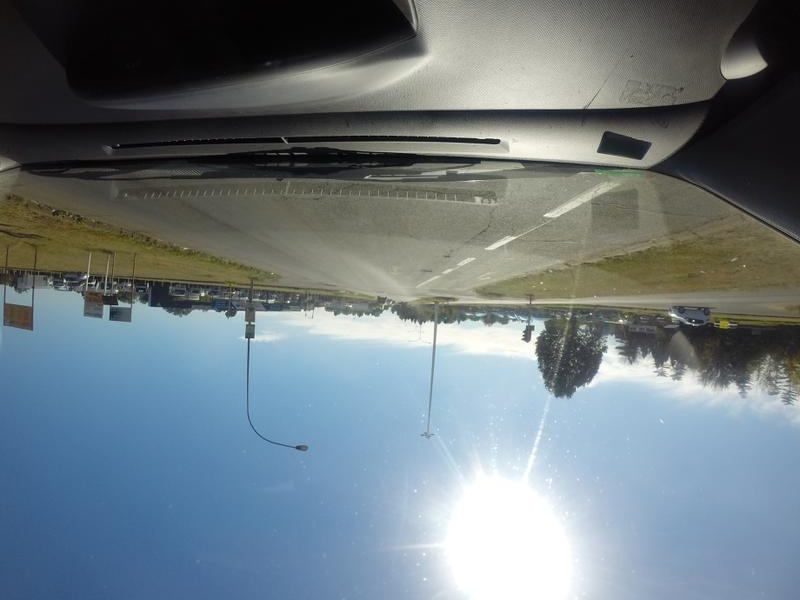pothole: (419, 262, 448, 276)
